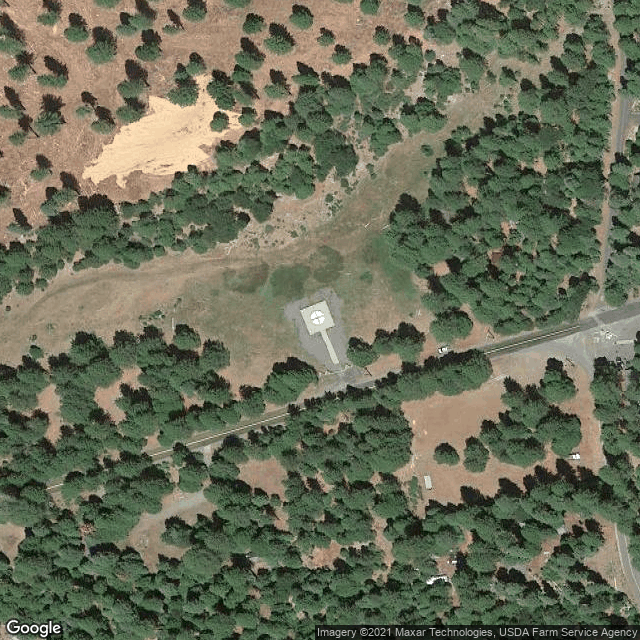Helipad: (296, 296, 339, 338)
